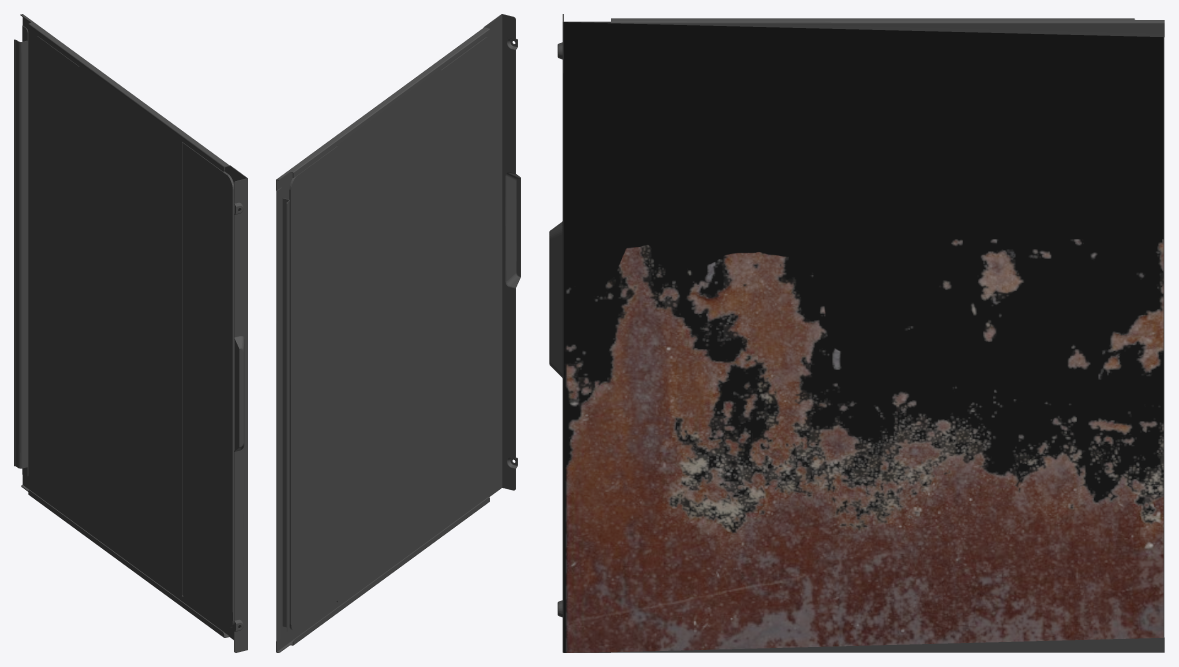
Rendered from PanelLewyRdza.fbx.
The picture shows the model from 3 angles, left to right: view 1: azimuth 30°, elevation 25°; view 2: azimuth 150°, elevation 25°; view 3: azimuth 270°, elevation 25°; orthographic projection. The views are drawn at different scales.
Visible parts, largest first — view 1: PanelLewy; view 2: PanelLewy; view 3: PanelLewy.
Part boxes in pixels (x1,y1,x2,y2): PanelLewy: [14, 14, 247, 652]; PanelLewy: [276, 14, 520, 652]; PanelLewy: [549, 14, 1164, 652].
Size of the model in its own units: 9.09 by 291 by 258.
